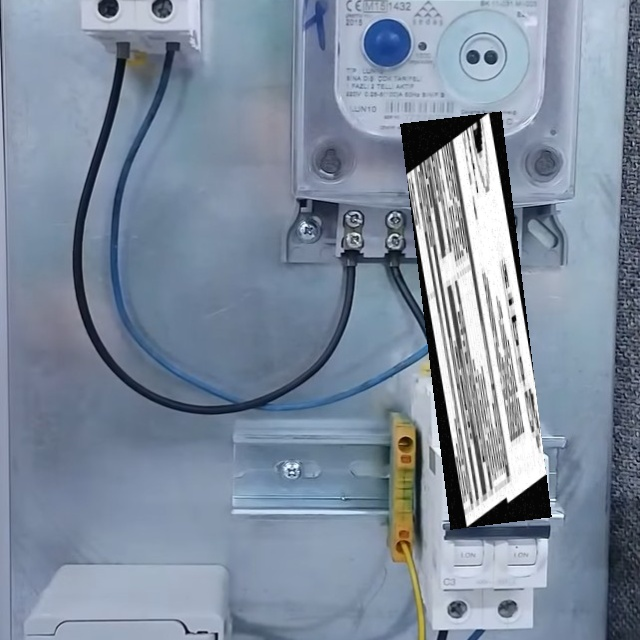electricity-bill: (400, 111, 552, 529)
